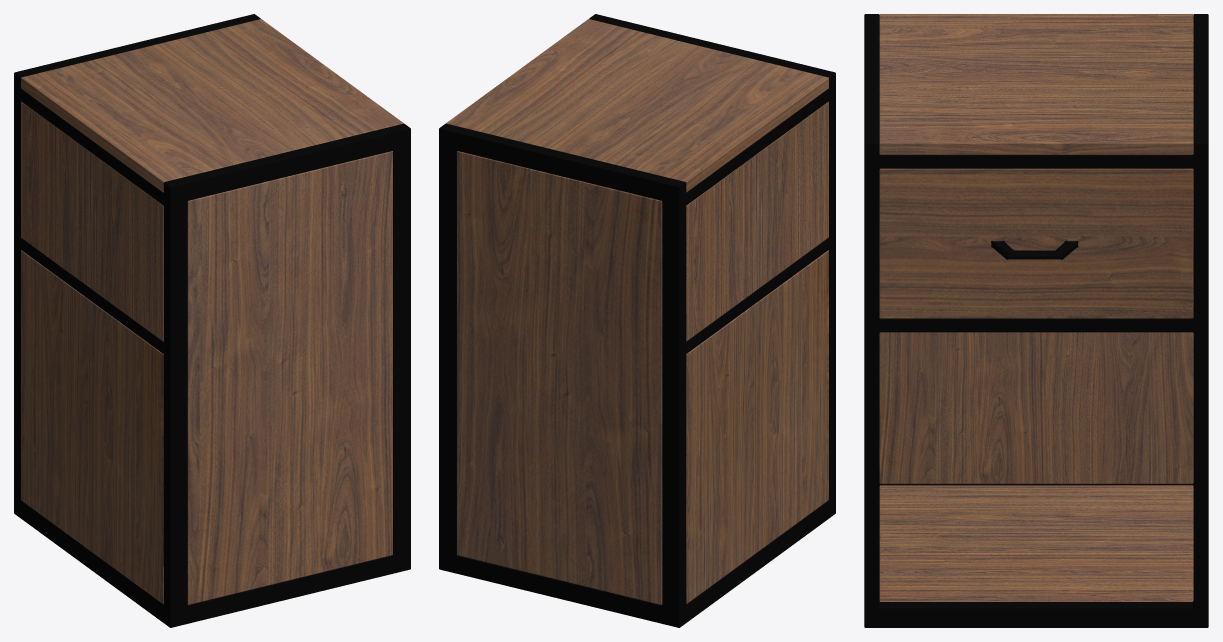
File: sidetable.glb
3 views of the same model, side by side, from view 1: azimuth 30°, elevation 25°; view 2: azimuth 150°, elevation 25°; view 3: azimuth 270°, elevation 25° (orthographic). The views are drawn at different scales.
Visible parts, largest first — view 1: wood, metal; view 2: wood, metal; view 3: wood, metal.
Part boxes in pixels (x1,y1,x2,y2): wood: (21,19,403,604); metal: (14,14,410,627); wood: (446,19,828,604); metal: (439,14,835,627); wood: (879,14,1193,601); metal: (864,14,1208,627).
Size of the model in its own units: 0.6967 by 1.1 by 0.7085.
2 materials, 1 textured.
